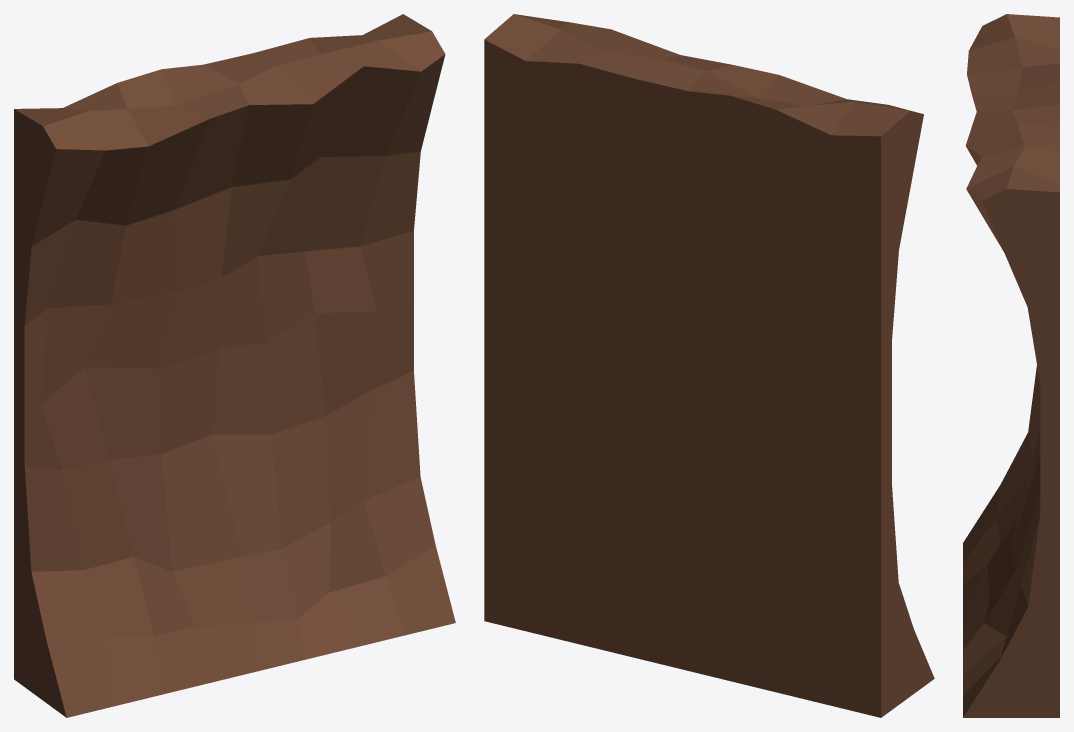
File: CaveWallHigh.fbx
3 renders of one model, left to right at view 1: azimuth 30°, elevation 25°; view 2: azimuth 150°, elevation 25°; view 3: azimuth 270°, elevation 25°, orthographic. The views are drawn at different scales.
Visible parts, largest first — view 1: CaveWallHigh; view 2: CaveWallHigh; view 3: CaveWallHigh.
Boxes of the visible parts, x1,y1,x2,y2 form: CaveWallHigh: (14,14,455,717); CaveWallHigh: (484,14,934,717); CaveWallHigh: (963,14,1059,717).
Size of the model in its own units: 500 by 705 by 117.
1 material, 1 textured.
